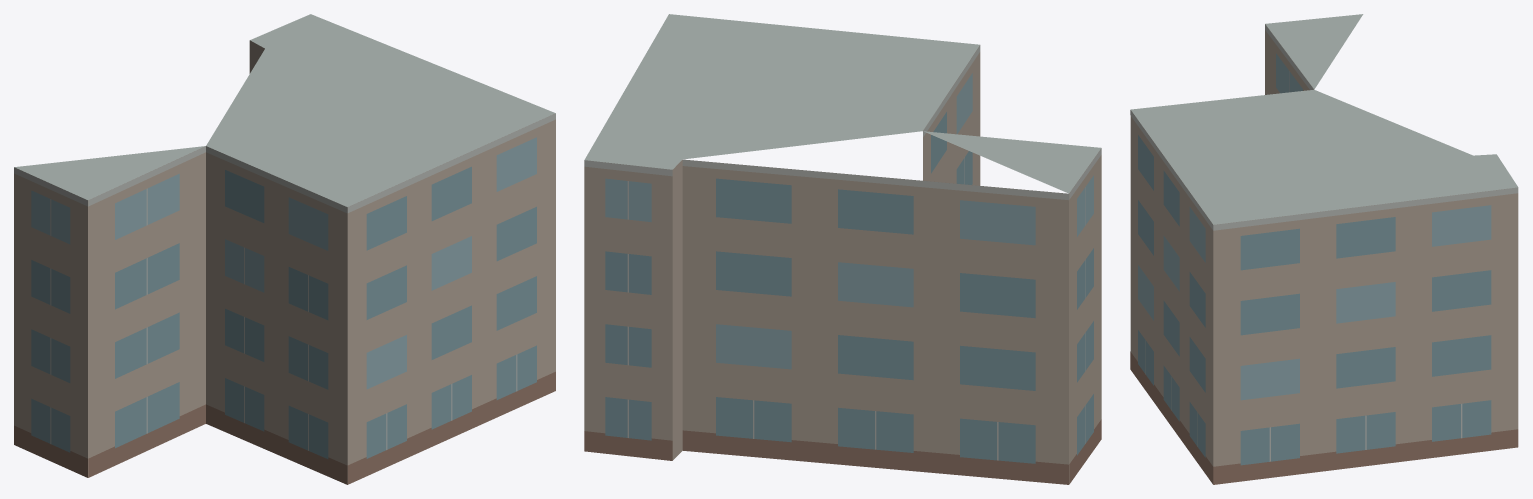
File: survey-upis-32863155.glb
3 renders of one model, left to right at view 1: azimuth 30°, elevation 25°; view 2: azimuth 150°, elevation 25°; view 3: azimuth 270°, elevation 25°, orthographic. The views are drawn at different scales.
Parts seen in each view (by area): view 1: survey-upis-32863155.tmp; view 2: survey-upis-32863155.tmp; view 3: survey-upis-32863155.tmp.
Part boxes in pixels (x1,y1,x2,y2): survey-upis-32863155.tmp: [14, 14, 555, 484]; survey-upis-32863155.tmp: [584, 14, 1101, 484]; survey-upis-32863155.tmp: [1130, 14, 1518, 484].
Size of the model in its own units: 18.89 by 10.85 by 14.68.
